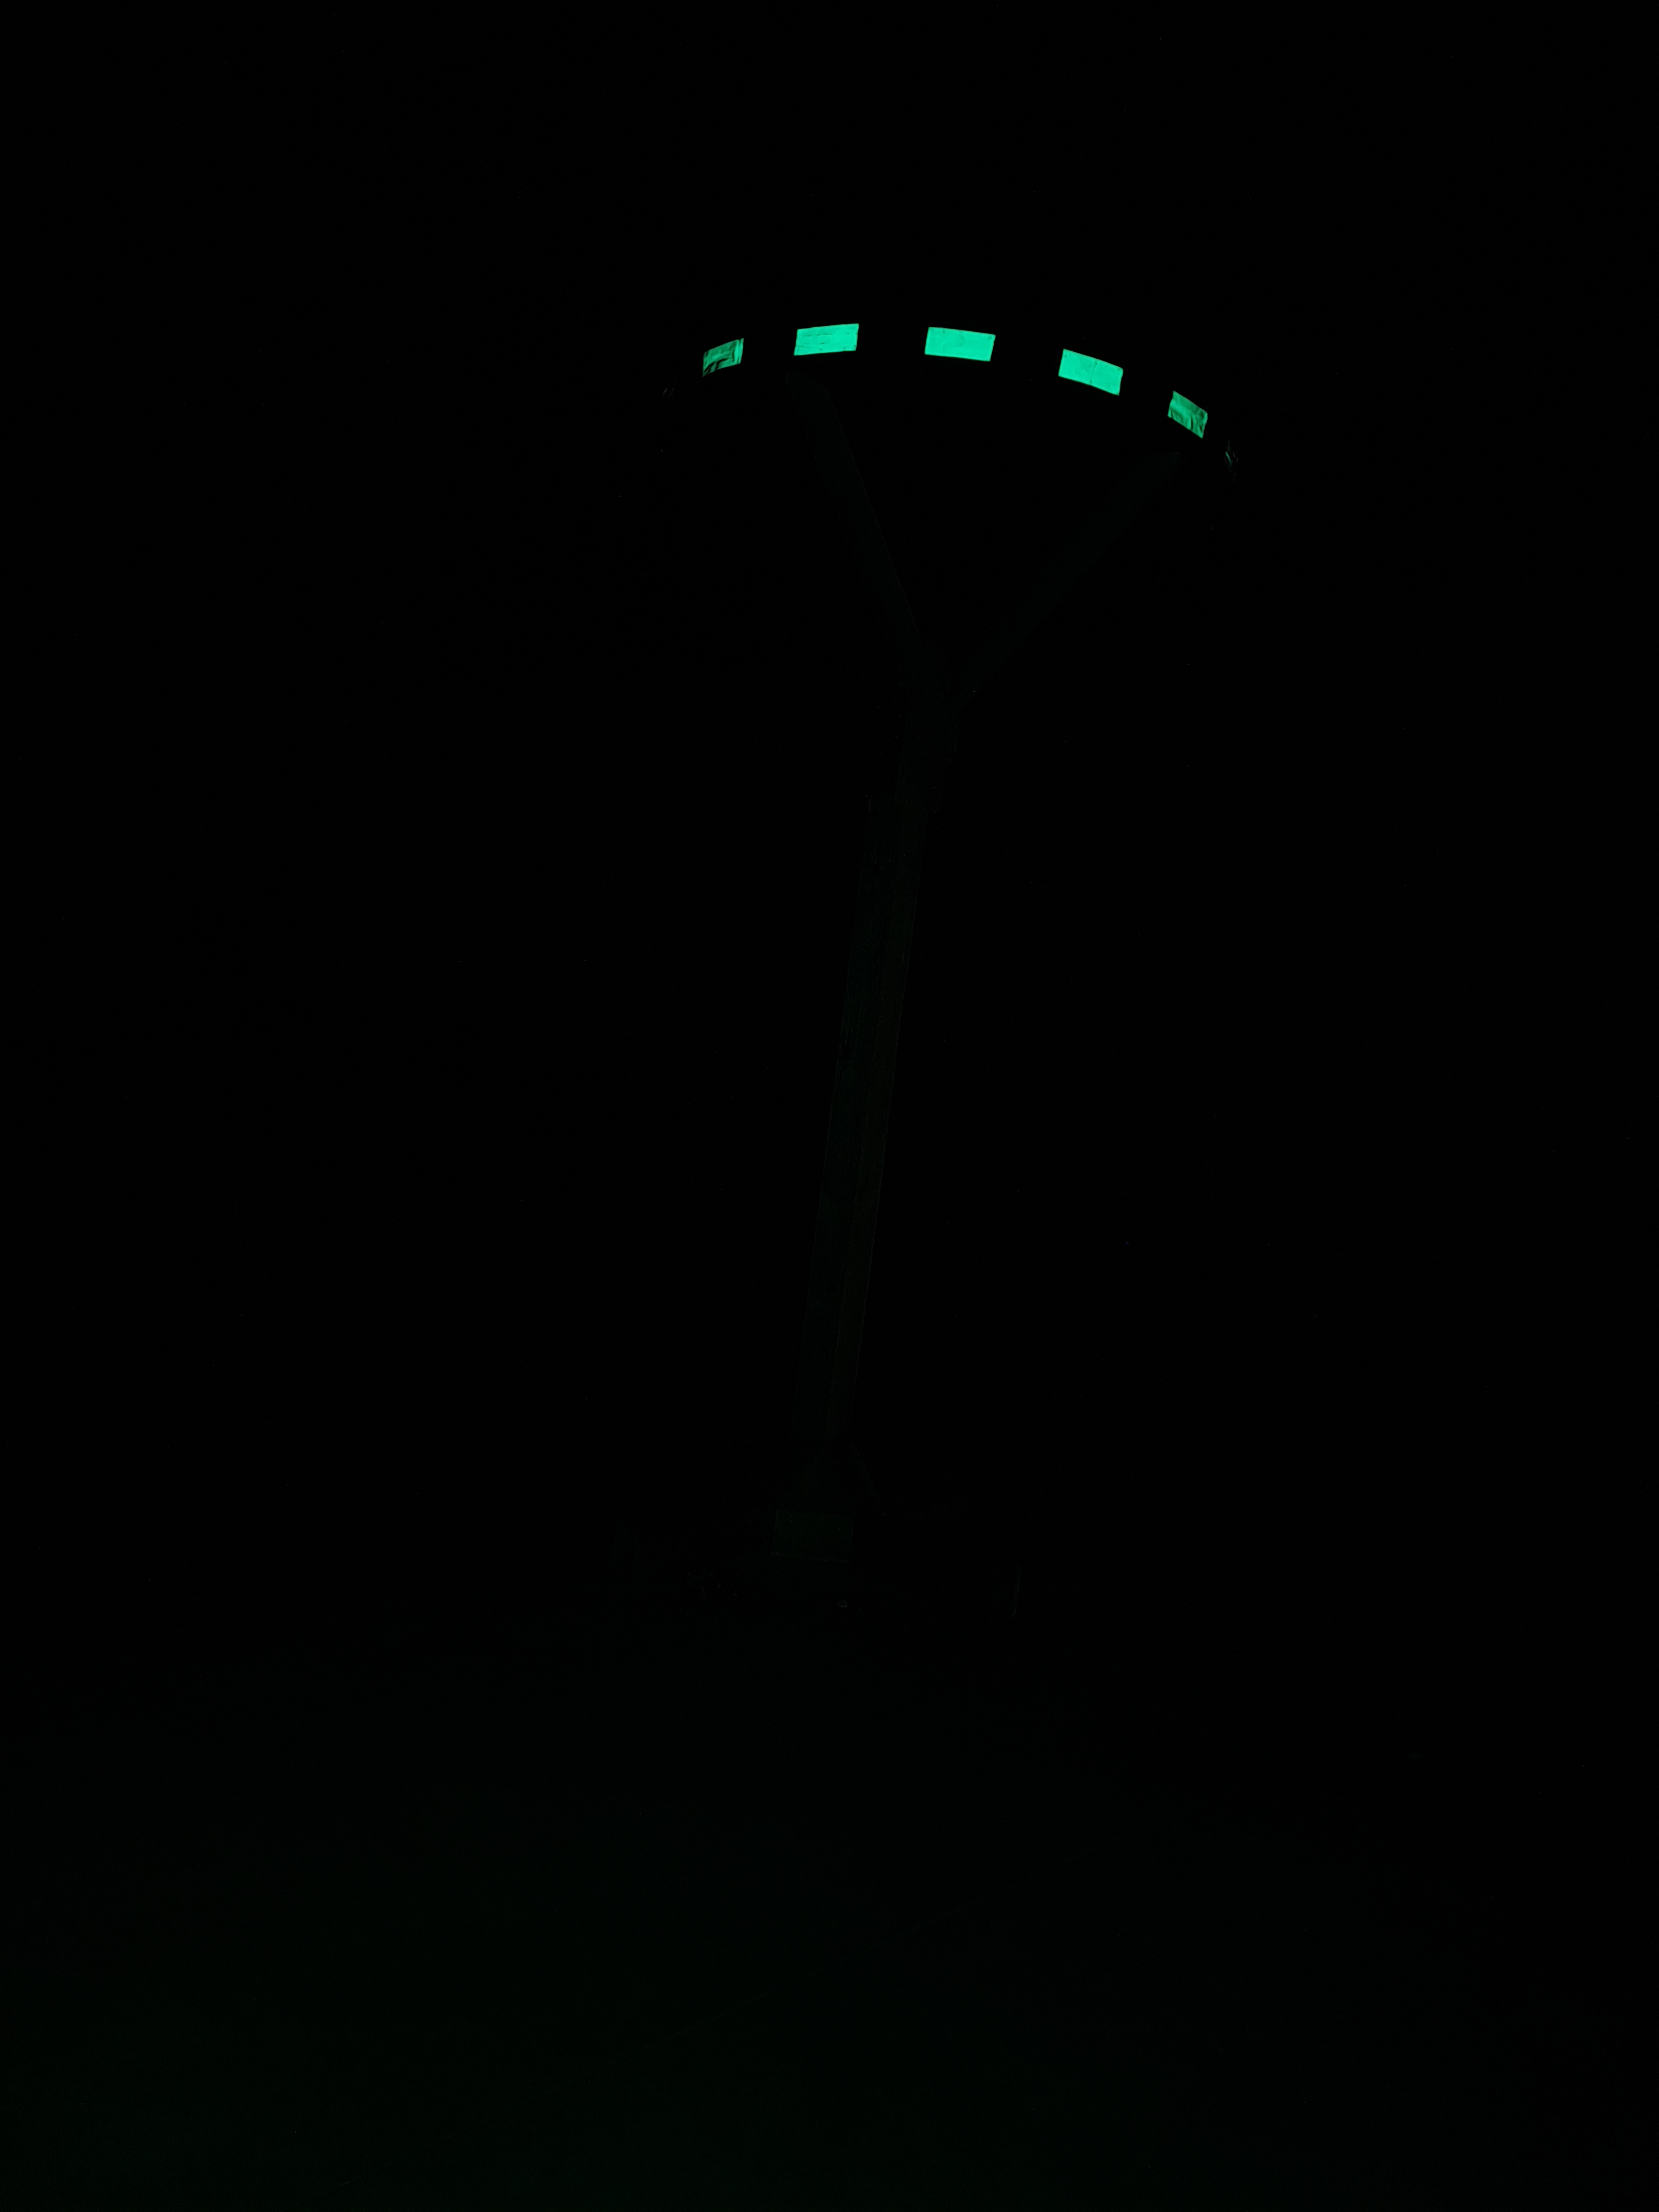hoop: (694, 319, 1211, 441)
